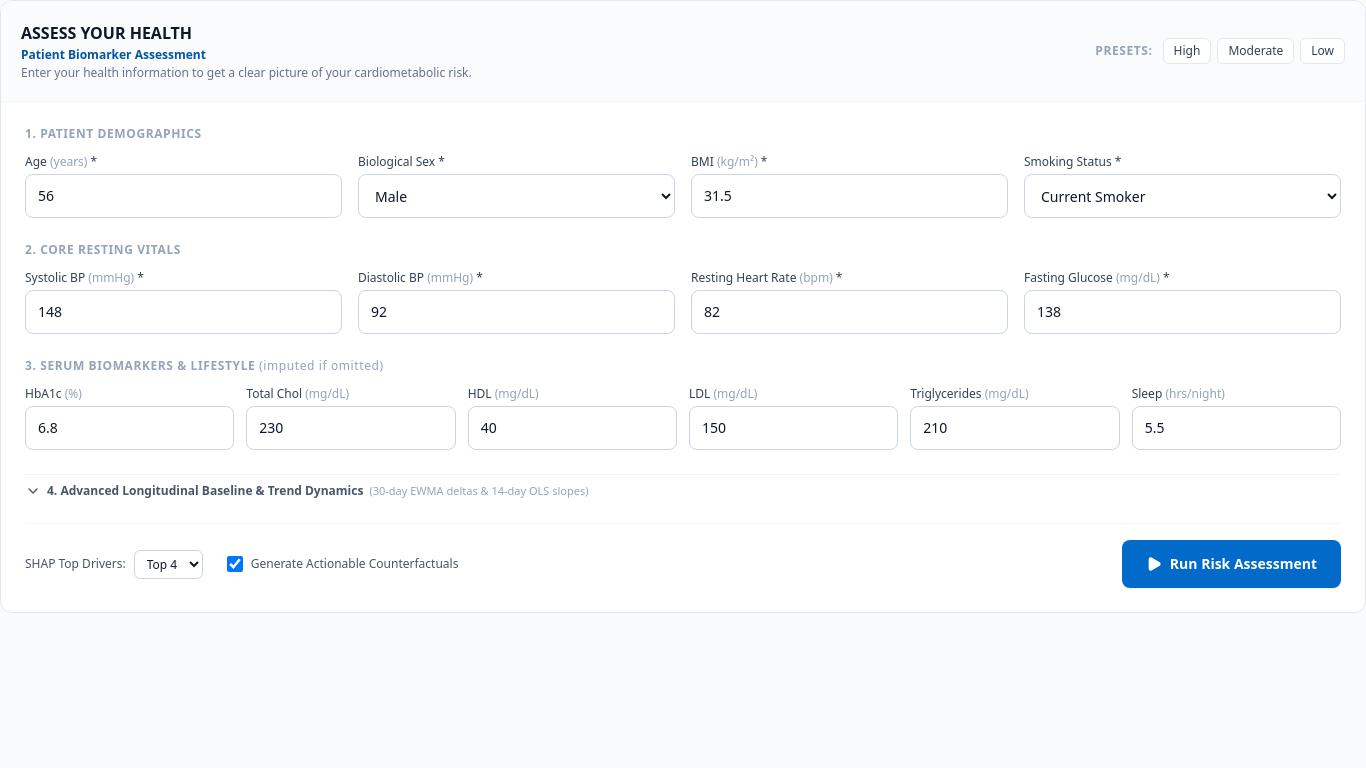
Scenario: PatientForm › switches preset values when clicking preset buttons
# Click "Low" preset
Click the button "Low" at (1323, 51), box [1300,38,1345,64]
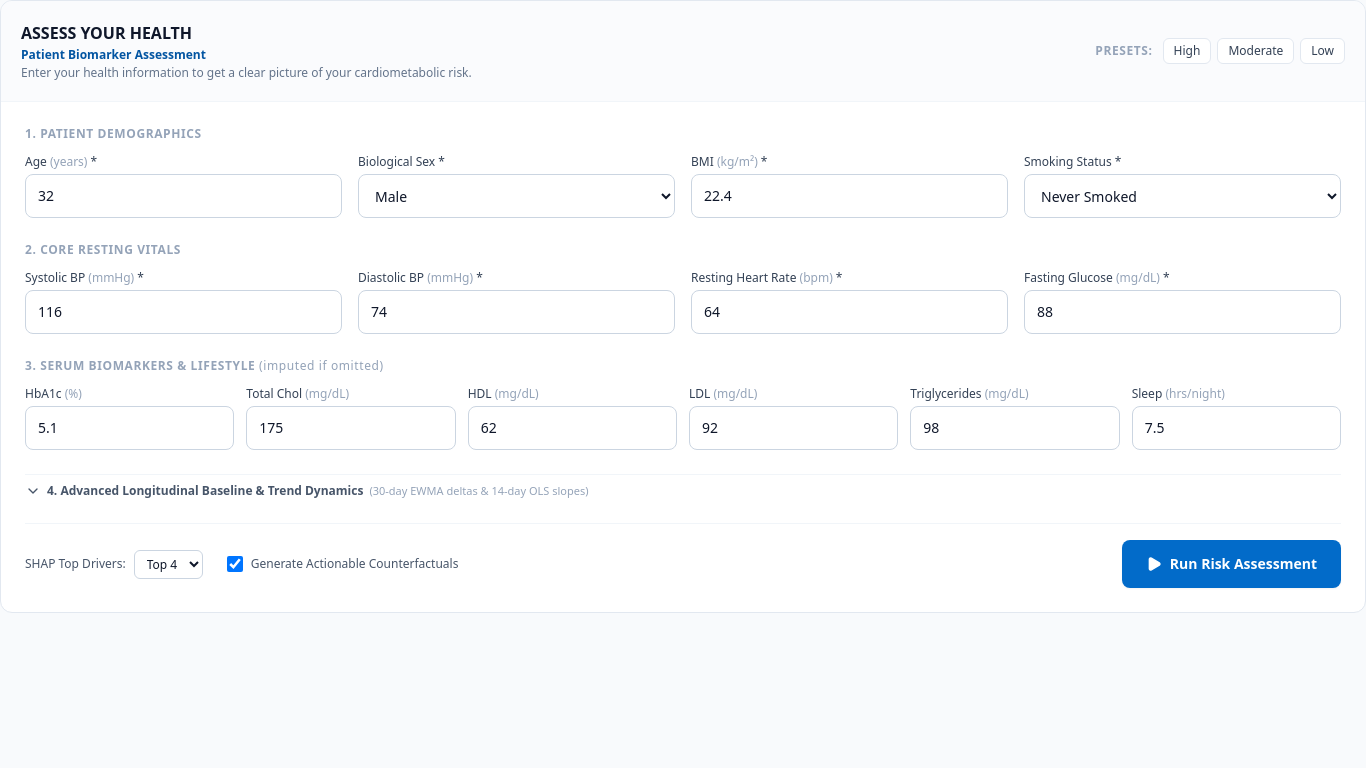
Check: the number field labelled "Systolic BP (mmHg) *" holds "116", box [25,290,342,334]
Check: the number field labelled "Age (years) *" holds "32", box [25,174,342,218]
